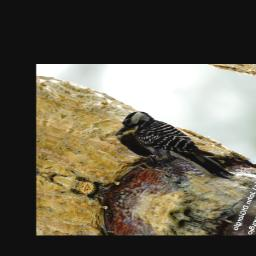Woodpecker: (105, 106, 253, 192)
